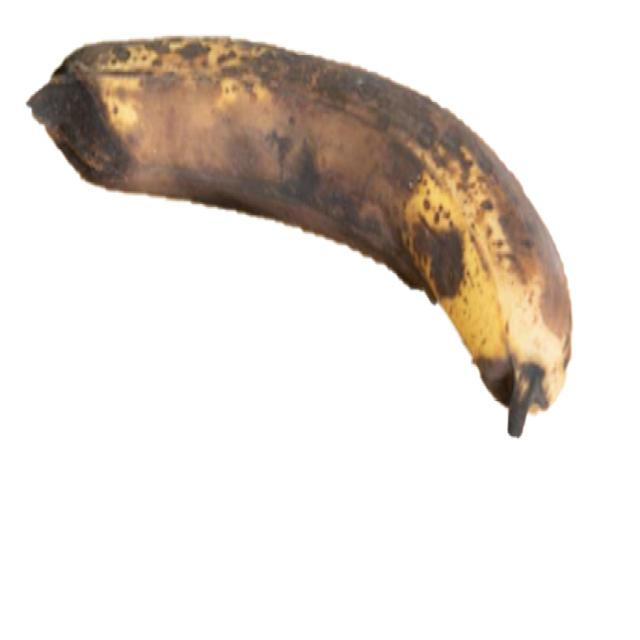rotten-banana: (25, 31, 573, 438)
